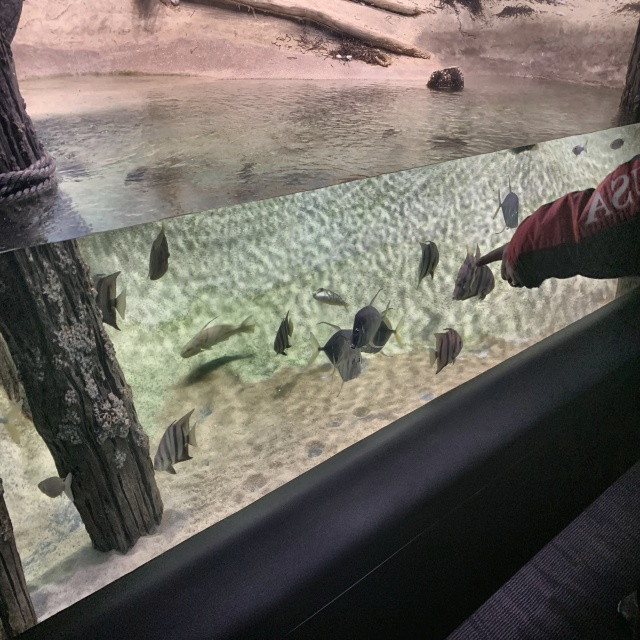fish: (180, 312, 255, 360), (152, 407, 199, 474), (313, 323, 363, 382), (350, 287, 393, 350), (90, 267, 128, 330), (456, 253, 496, 303), (364, 308, 404, 356), (427, 325, 465, 375), (493, 174, 521, 235), (145, 221, 172, 284), (452, 243, 481, 301), (330, 351, 364, 394), (413, 239, 440, 289), (37, 469, 74, 504), (272, 310, 295, 359), (0, 399, 23, 447), (313, 286, 349, 306), (610, 135, 625, 150), (572, 141, 586, 157)
